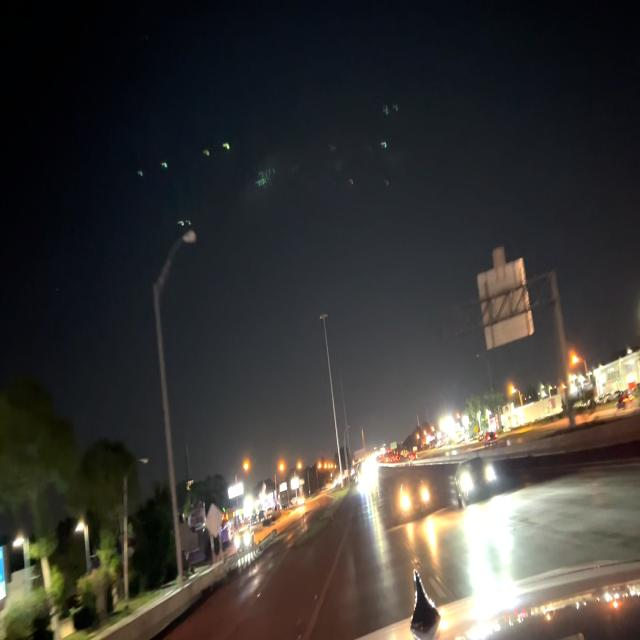back-of-sign: (476, 245, 536, 356)
